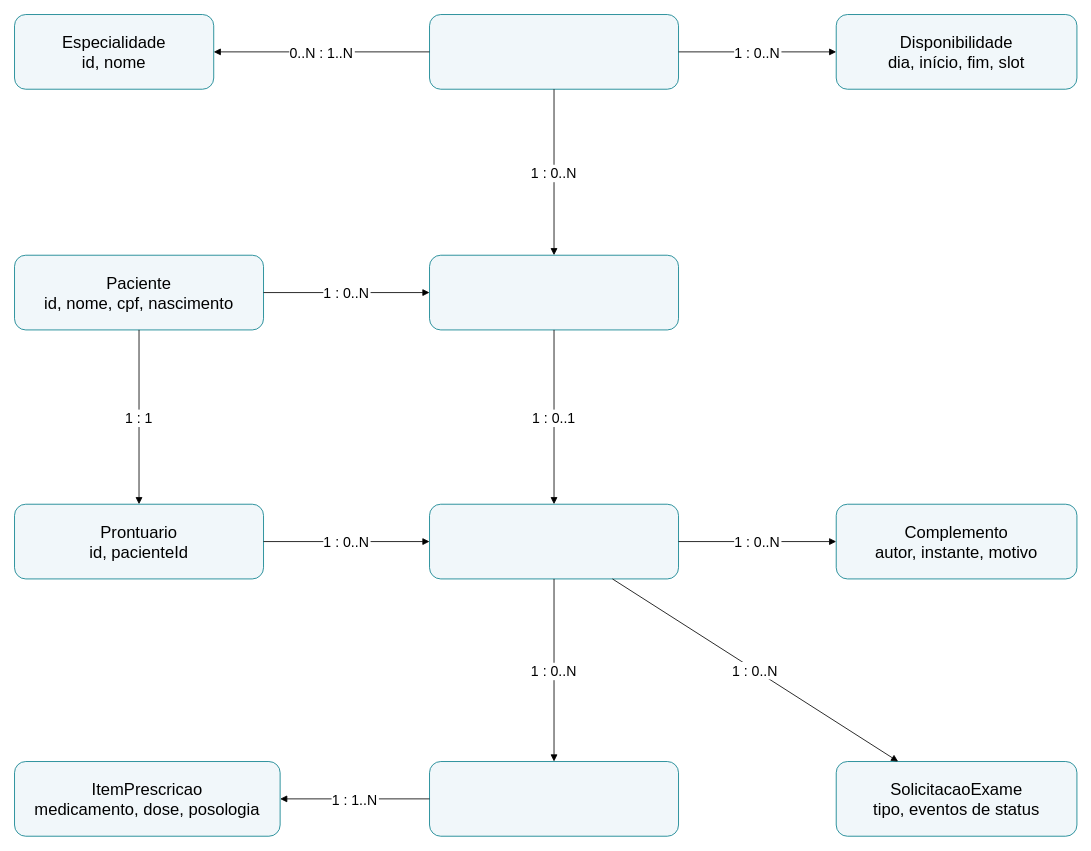
The diagram is 1091 pixels wide and 851 high, and some of its shapes have lost their labels. The shapes that lost their labels are listed below. From the top down, each one's centre as x and y in pixels, then its label:
(554,51): Profissional id, nome, registroConselho
(554,292): Consulta dataHora, status, versão
(554,541): Atendimento queixa, evolução, conduta
(554,798): Prescricao id, dataEmissao
